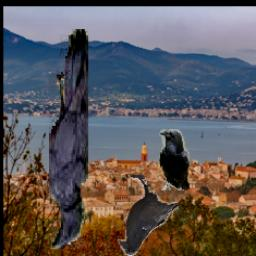Crow: (49, 30, 88, 250), (118, 175, 179, 256), (159, 130, 191, 191)
